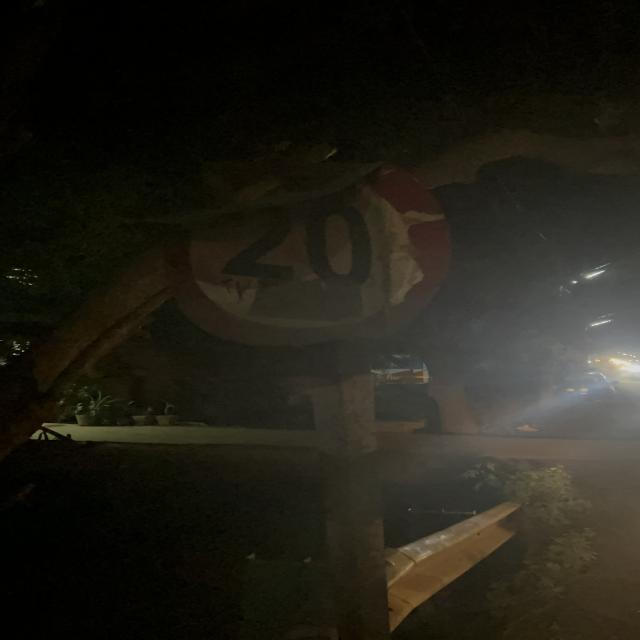speedlimit_20: (180, 159, 454, 362)
